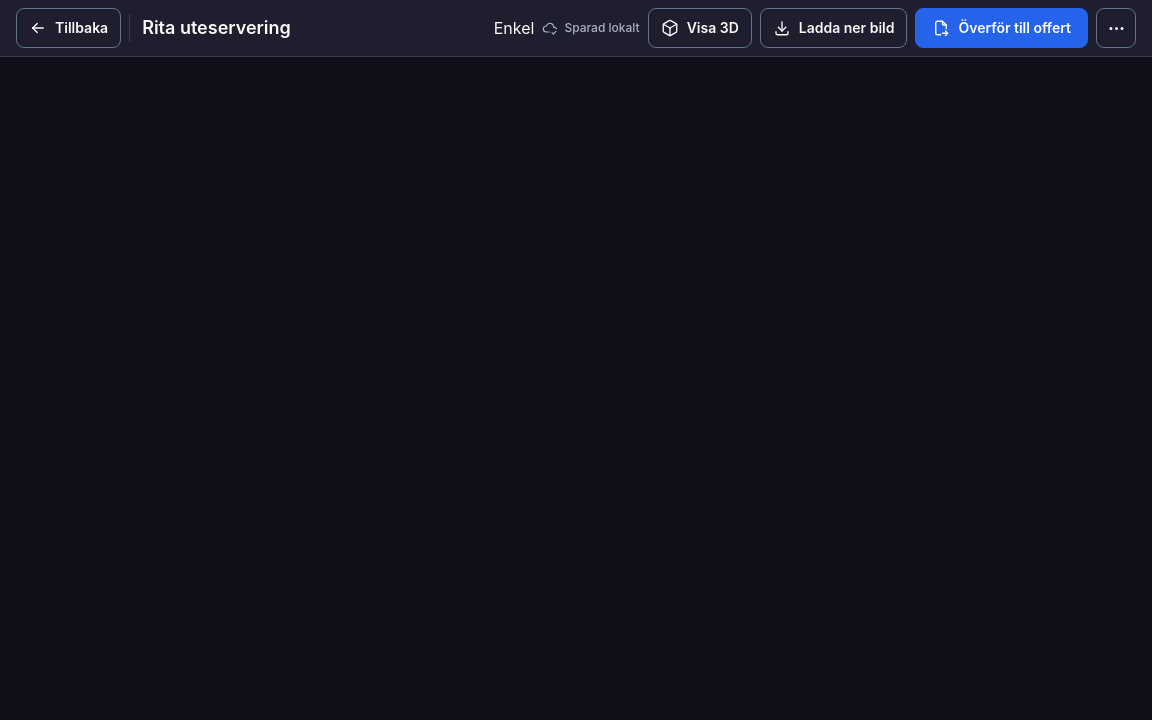
Test: SketchWorkspaceHeader › closes the overflow menu after an outside pointer press
The width and height of the screenshot is (1152, 720).
Click the button named "Fler skissåtgärder". click: (1116, 28)
box: [1096,8,1136,48]
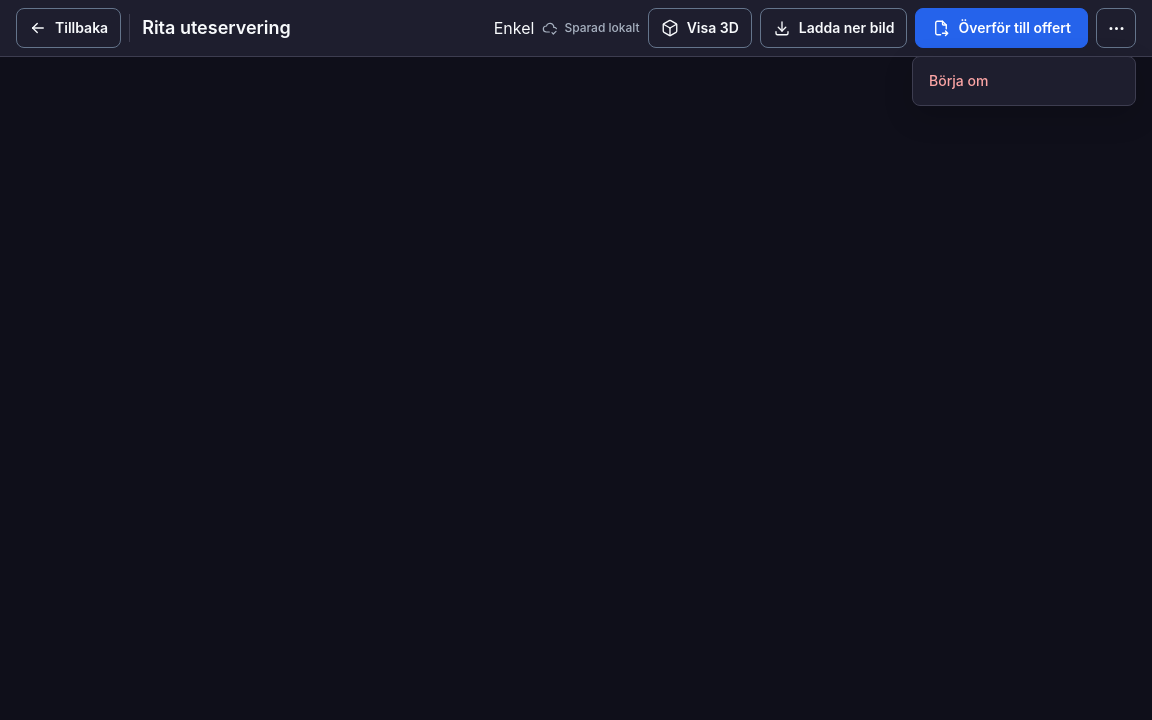
Now the menu is shown, box [912,56,1136,106]
Press the mouse on the element that starts with "Hoppa till ritytan" at (576, 360), box [0,0,1151,719]
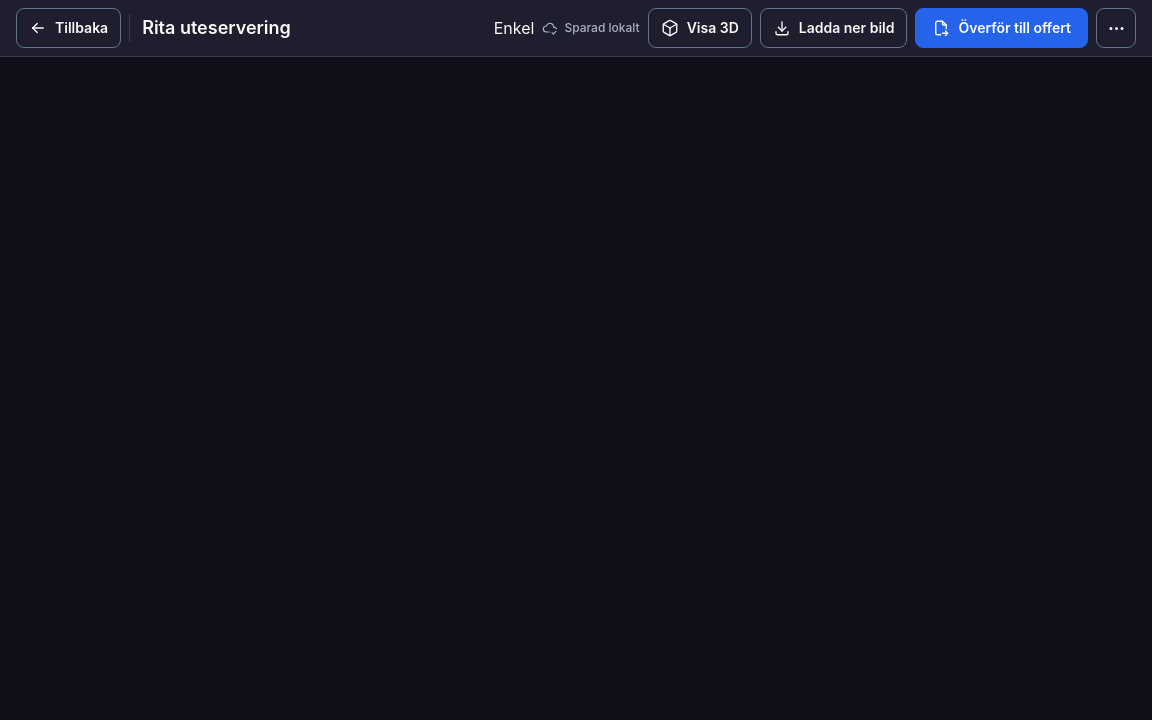
Now the menu is gone
